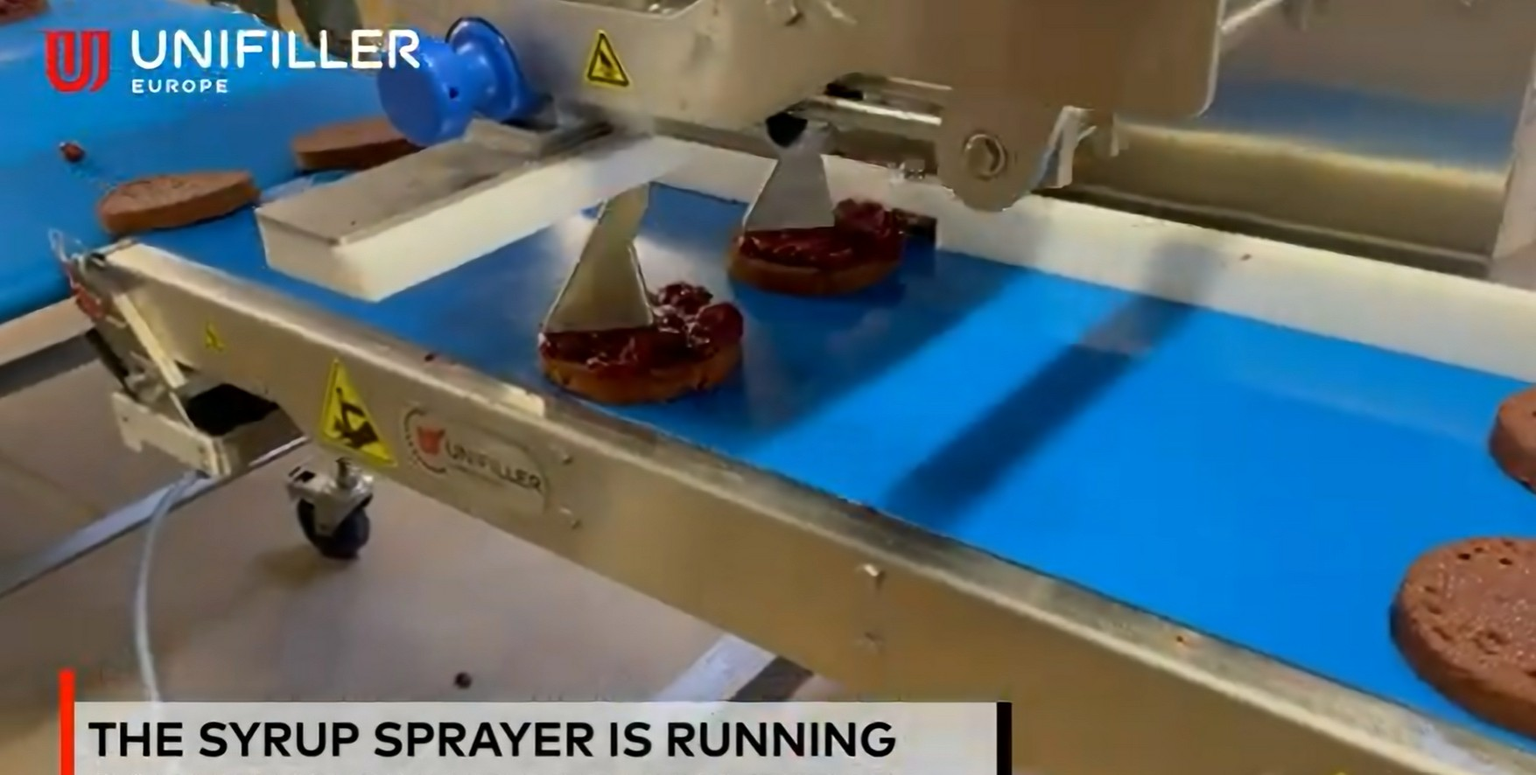Chocolate Cake: (1394, 526, 1536, 740), (731, 202, 905, 292), (97, 170, 260, 232), (288, 122, 417, 168), (1491, 382, 1536, 500)
Jam Coated: (538, 287, 744, 401)
